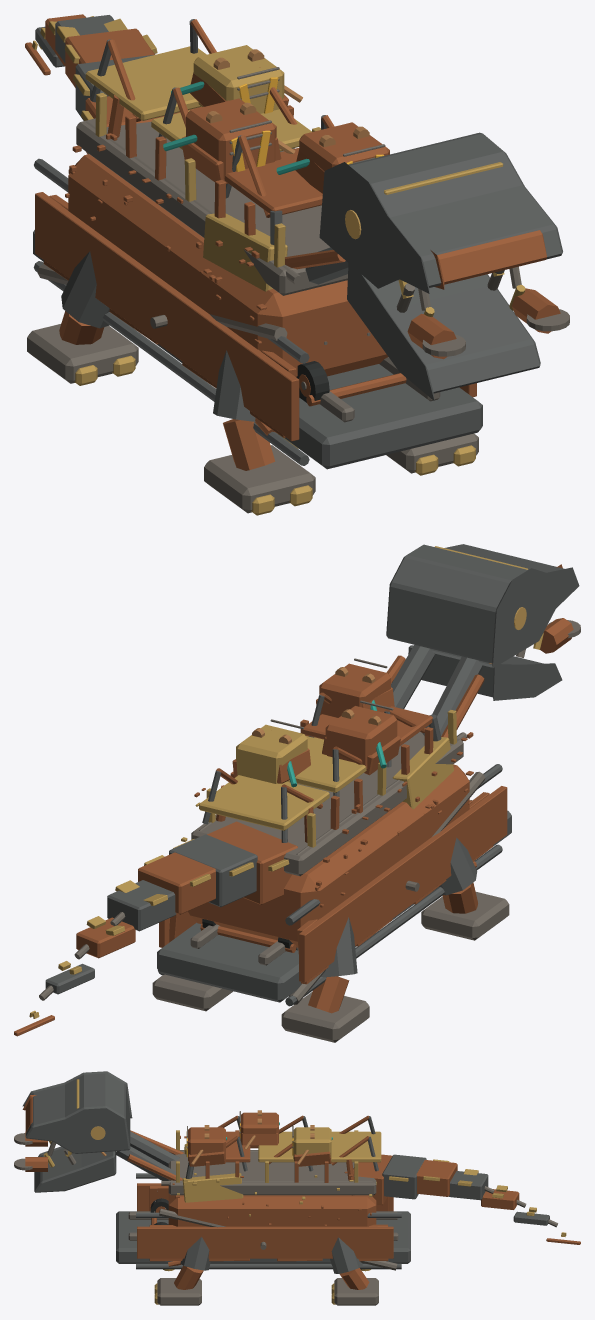
Rendered from scrapasaurus.glb.
3 renders of one model, top to bottom at view 1: azimuth 30°, elevation 25°; view 2: azimuth 150°, elevation 25°; view 3: azimuth 270°, elevation 25°, orthographic. The views are drawn at different scales.
Visible parts, largest first — view 1: scrap-head-skull, deep-welded-ribcage, long-salvaged-door-side-skin, scrapasaurus-jaw, lower-storey-main-girder, upper-storey-deck-girder, upper-crushed-cabin-roof, scrapasaurus-broad-welded-foot.001, scrapasaurus-broad-welded-foot, battery-box-2-whole, long-welded-dinosaur-muzzle, crushed-hood-shoulder (+25 smaller); view 2: scrap-head-skull, deep-welded-ribcage, long-salvaged-door-side-skin, lower-storey-main-girder, upper-storey-deck-girder, upper-crushed-cabin-roof, scrapasaurus-jaw, tail-welded-segment-2, tail-welded-segment-1, tail-welded-segment-3, battery-box-2-whole, battery-box-1-whole (+22 smaller); view 3: long-salvaged-door-side-skin.001, scrap-head-skull, deep-welded-ribcage, upper-storey-deck-girder, lower-storey-main-girder, scrapasaurus-jaw, upper-crushed-cabin-roof, tail-welded-segment-2, crushed-hood-shoulder.001, ribbed-steel-arch.002, tail-welded-segment-3, scrapasaurus-broad-welded-foot.003 (+24 smaller).
Part boxes in pixels (left/top/right/bottom): scrap-head-skull: left=319, top=132, right=562, bottom=293; deep-welded-ribcage: left=68, top=154, right=388, bottom=377; long-salvaged-door-side-skin: left=35, top=192, right=299, bottom=441; scrapasaurus-jaw: left=347, top=263, right=540, bottom=400; lower-storey-main-girder: left=33, top=230, right=482, bottom=469; upper-storey-deck-girder: left=76, top=118, right=347, bottom=295; upper-crushed-cabin-roof: left=85, top=46, right=206, bottom=120; scrapasaurus-broad-welded-foot.001: left=204, top=445, right=315, bottom=513; scrapasaurus-broad-welded-foot: left=27, top=324, right=138, bottom=383; battery-box-2-whole: left=186, top=98, right=276, bottom=178; long-welded-dinosaur-muzzle: left=430, top=230, right=546, bottom=289; crushed-hood-shoulder: left=203, top=213, right=287, bottom=291; scrap-head-skull: left=386, top=544, right=579, bottom=667; deep-welded-ribcage: left=188, top=764, right=469, bottom=947; long-salvaged-door-side-skin: left=299, top=786, right=507, bottom=982; lower-storey-main-girder: left=157, top=810, right=511, bottom=1002; upper-storey-deck-girder: left=191, top=732, right=463, bottom=876; upper-crushed-cabin-roof: left=199, top=775, right=329, bottom=830; scrapasaurus-jaw: left=408, top=645, right=562, bottom=700; tail-welded-segment-2: left=169, top=834, right=257, bottom=907; tail-welded-segment-1: left=207, top=821, right=297, bottom=904; tail-welded-segment-3: left=138, top=852, right=215, bottom=914; battery-box-2-whole: left=325, top=706, right=397, bottom=769; battery-box-1-whole: left=236, top=724, right=307, bottom=783; long-salvaged-door-side-skin.001: left=137, top=1226, right=393, bottom=1258; scrap-head-skull: left=22, top=1071, right=132, bottom=1153; deep-welded-ribcage: left=168, top=1193, right=376, bottom=1226; upper-storey-deck-girder: left=168, top=1150, right=376, bottom=1195; lower-storey-main-girder: left=116, top=1211, right=410, bottom=1263; scrapasaurus-jaw: left=34, top=1146, right=116, bottom=1192; upper-crushed-cabin-roof: left=331, top=1131, right=381, bottom=1162; tail-welded-segment-2: left=382, top=1154, right=426, bottom=1199; crushed-hood-shoulder.001: left=182, top=1173, right=243, bottom=1202; ribbed-steel-arch.002: left=136, top=1263, right=401, bottom=1269; tail-welded-segment-3: left=416, top=1160, right=457, bottom=1196; scrapasaurus-broad-welded-foot.003: left=157, top=1278, right=201, bottom=1305.
Bounding box in the file's own units: 3.75 × 5.77 × 15.57.
